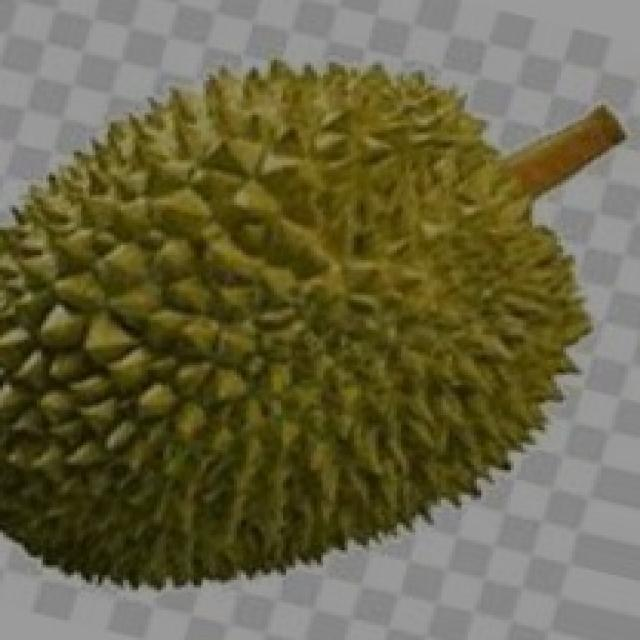fruit: (252, 175, 640, 603), (0, 242, 369, 628)
